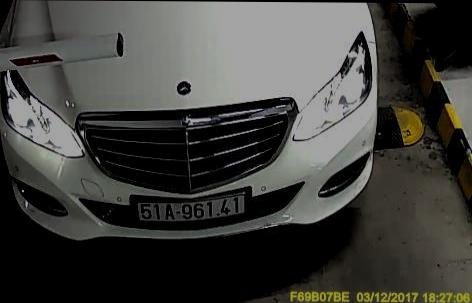License_Plate: (135, 193, 248, 221)
